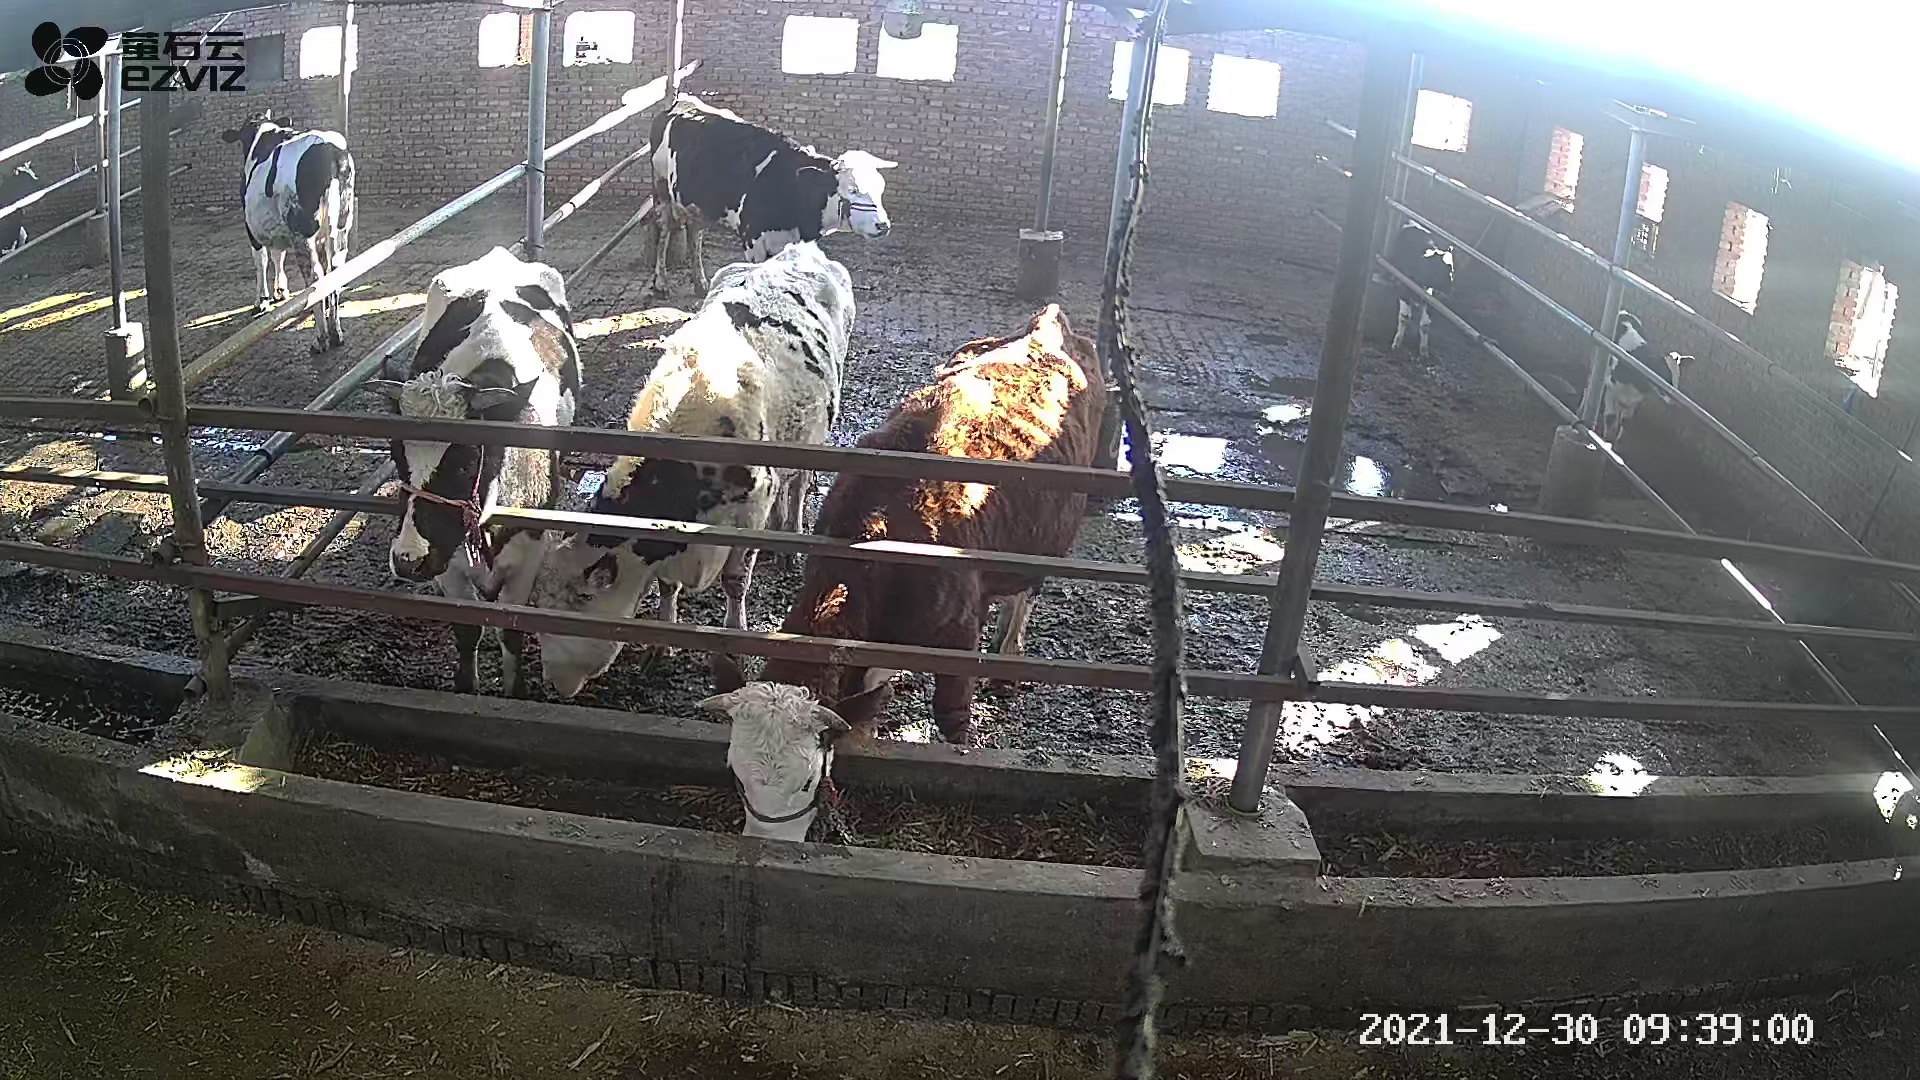cow: (696, 302, 1106, 847), (531, 237, 855, 700), (357, 243, 585, 700), (647, 88, 902, 298)
